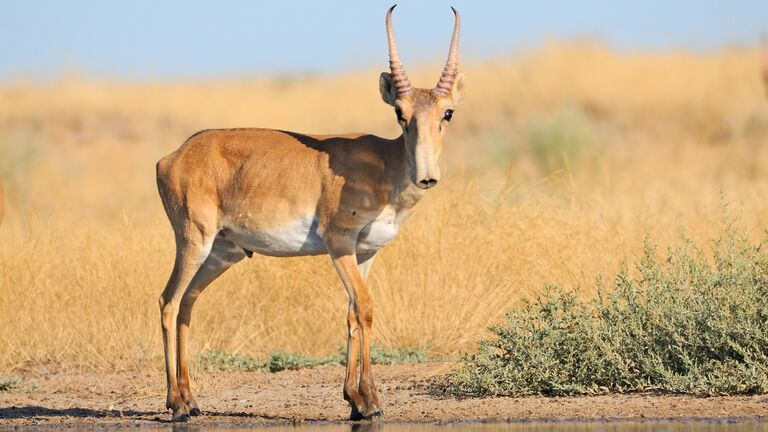saiga: (155, 6, 468, 422)
